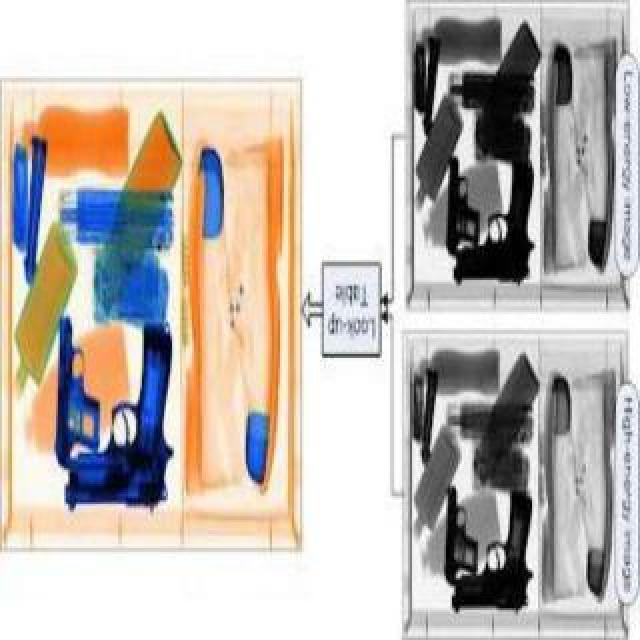gun: (58, 314, 174, 506), (448, 148, 536, 276), (448, 480, 532, 606), (50, 306, 100, 462), (440, 476, 478, 572), (444, 150, 480, 246)
